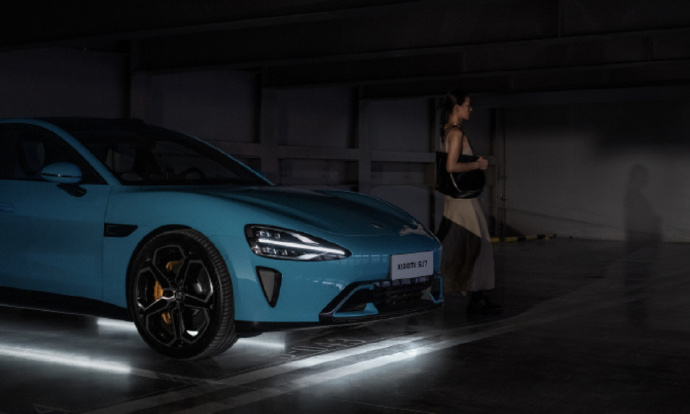su7: (0, 119, 460, 360)
